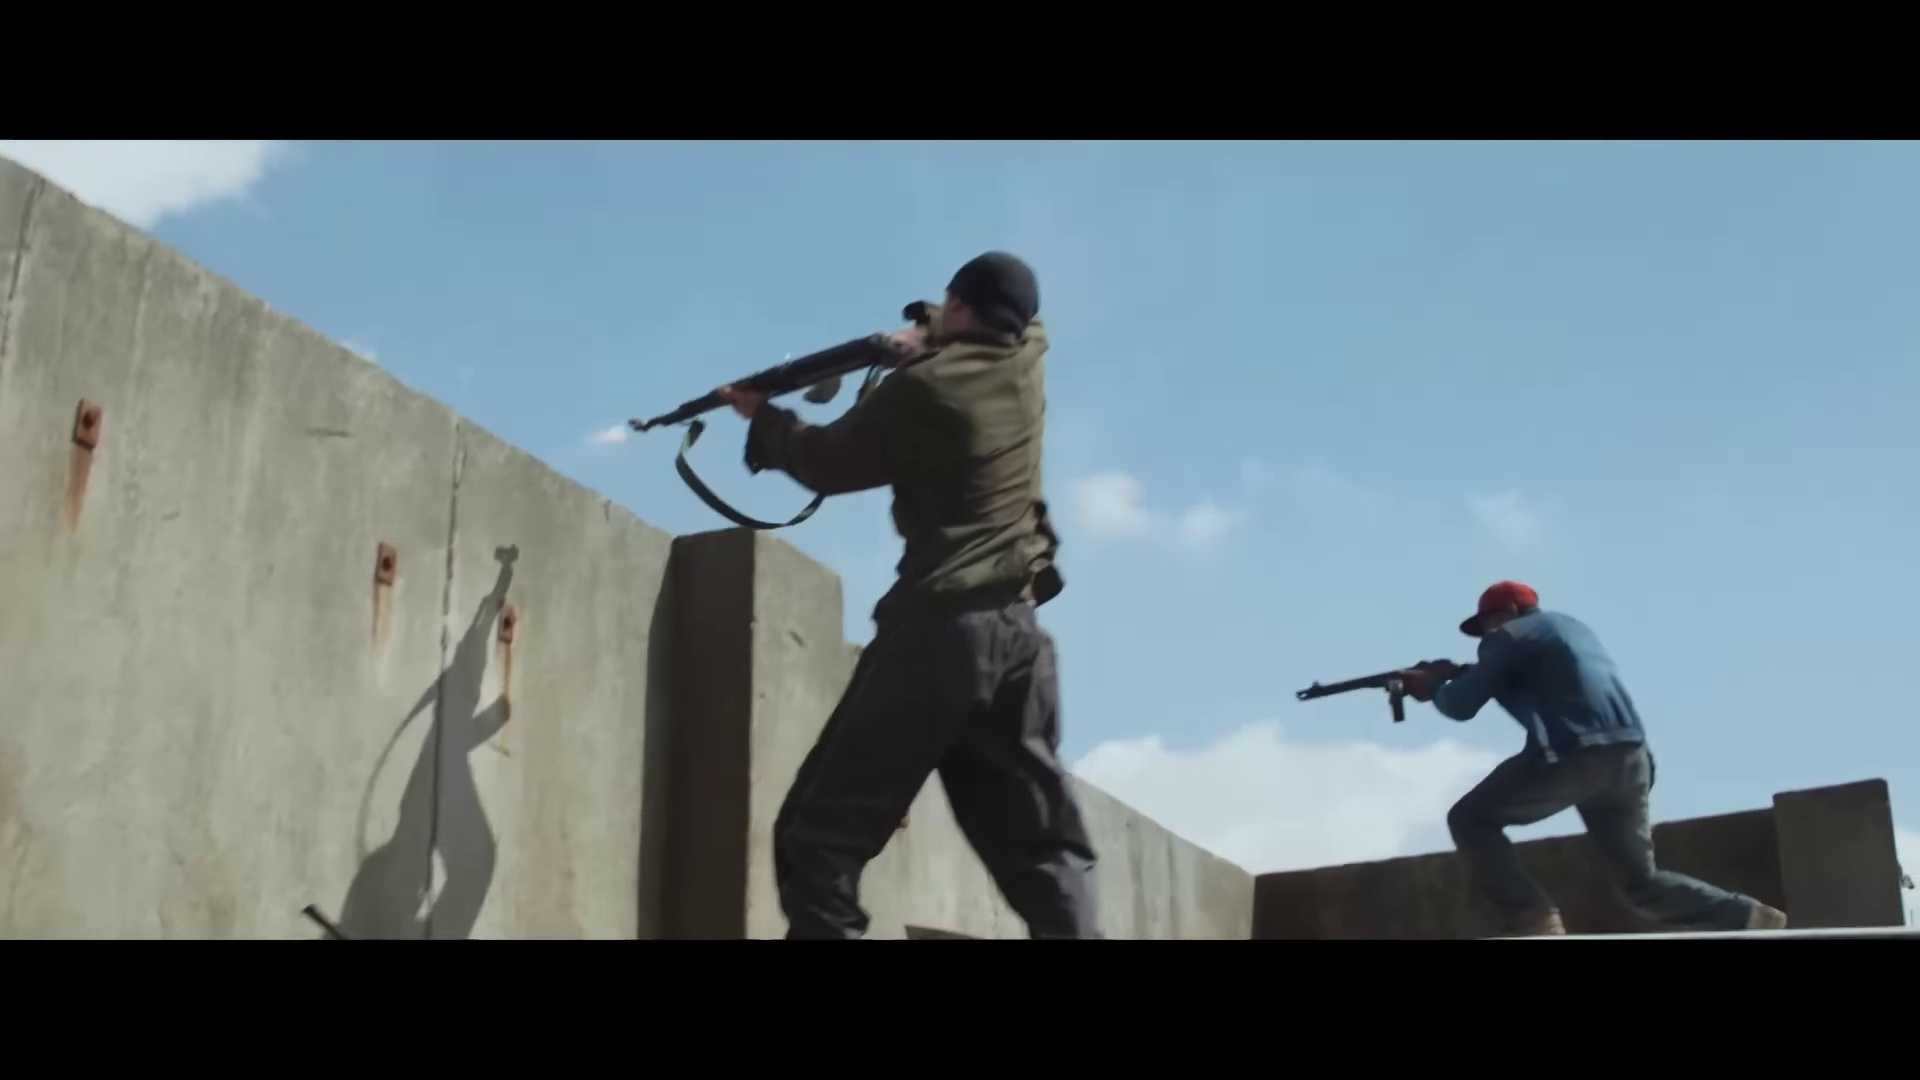gun: (620, 323, 923, 452), (1292, 653, 1491, 724)
p_w_gun: (608, 249, 1101, 947), (1295, 576, 1787, 940)
